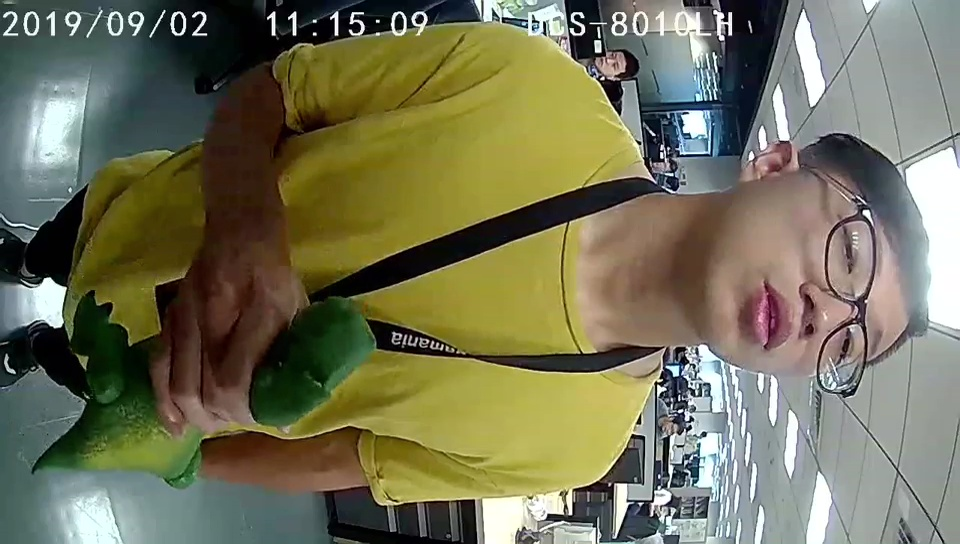rex: (77, 295, 377, 489)
